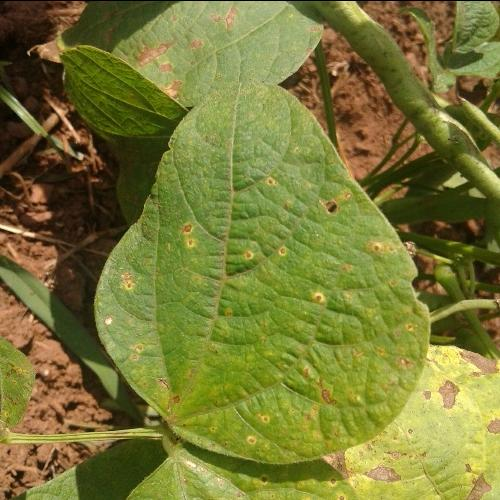hawar: (173, 145, 403, 388)
mozaik: (390, 299, 499, 500)
